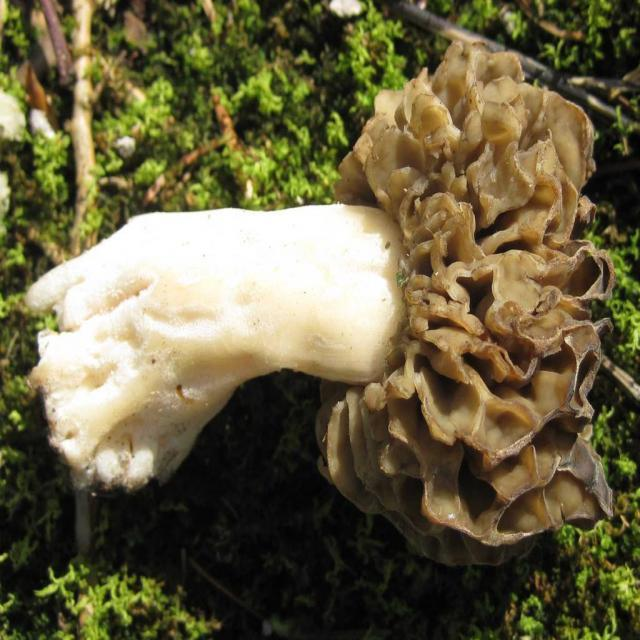Morchella esculenta: (17, 45, 613, 551)
